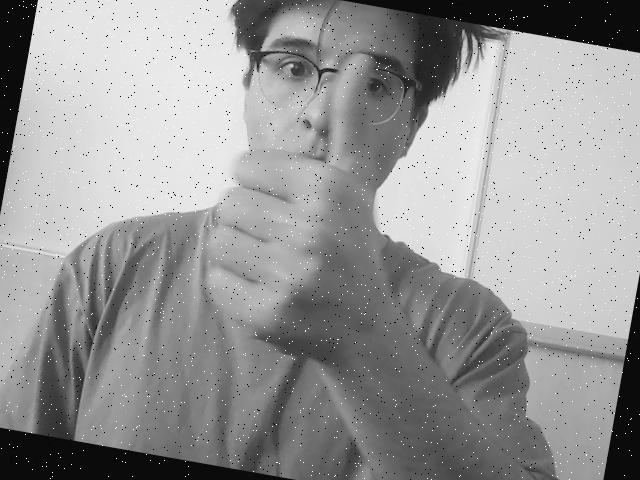good: (199, 55, 388, 375)
